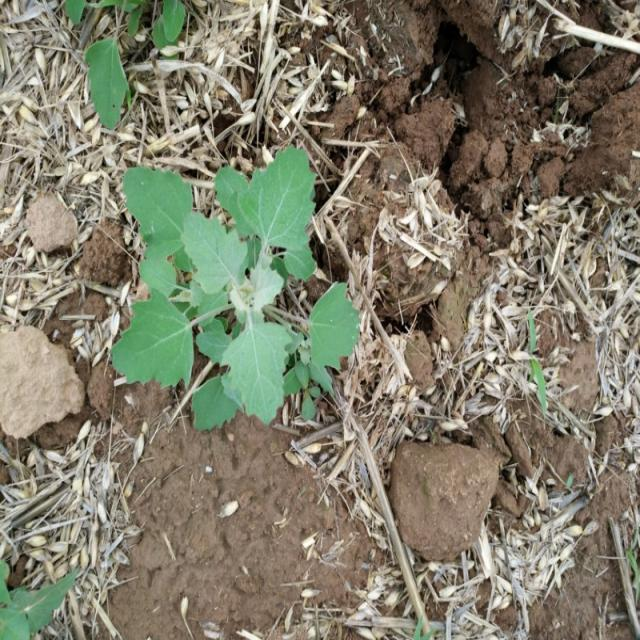goosefoots: (113, 160, 360, 441)
